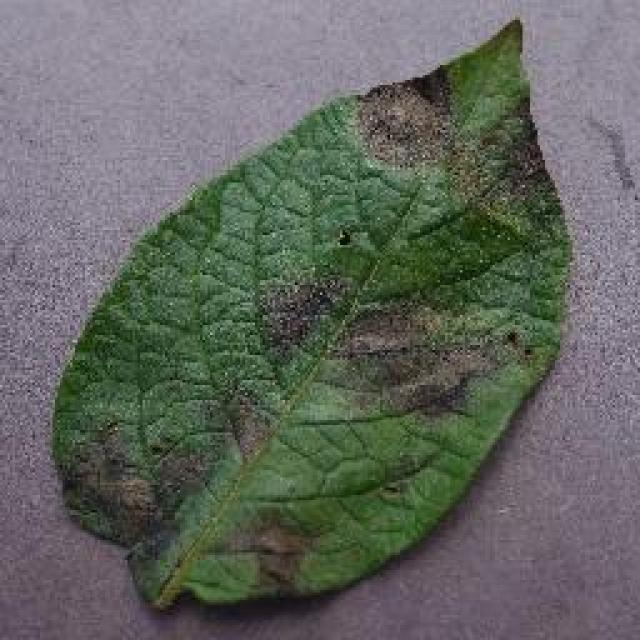Potato: (48, 15, 572, 613)
